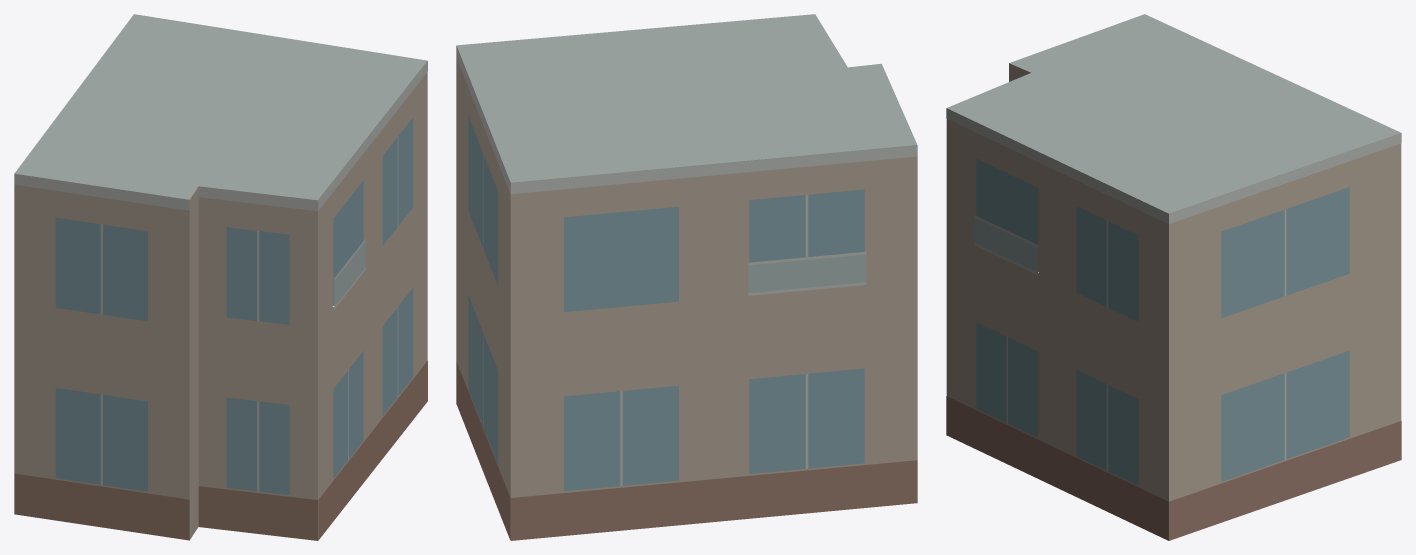
File: survey-upis-32603986.glb
3 renders of one model, left to right at view 1: azimuth 30°, elevation 25°; view 2: azimuth 150°, elevation 25°; view 3: azimuth 270°, elevation 25°, orthographic. The views are drawn at different scales.
Parts seen in each view (by area): view 1: survey-upis-32603986.tmp; view 2: survey-upis-32603986.tmp; view 3: survey-upis-32603986.tmp.
Boxes of the visible parts, x1,y1,x2,y2 form: survey-upis-32603986.tmp: [14, 14, 427, 540]; survey-upis-32603986.tmp: [456, 14, 917, 540]; survey-upis-32603986.tmp: [946, 14, 1401, 540].
Bounding box in the file's own units: 9.96 × 7.6 × 9.59.
